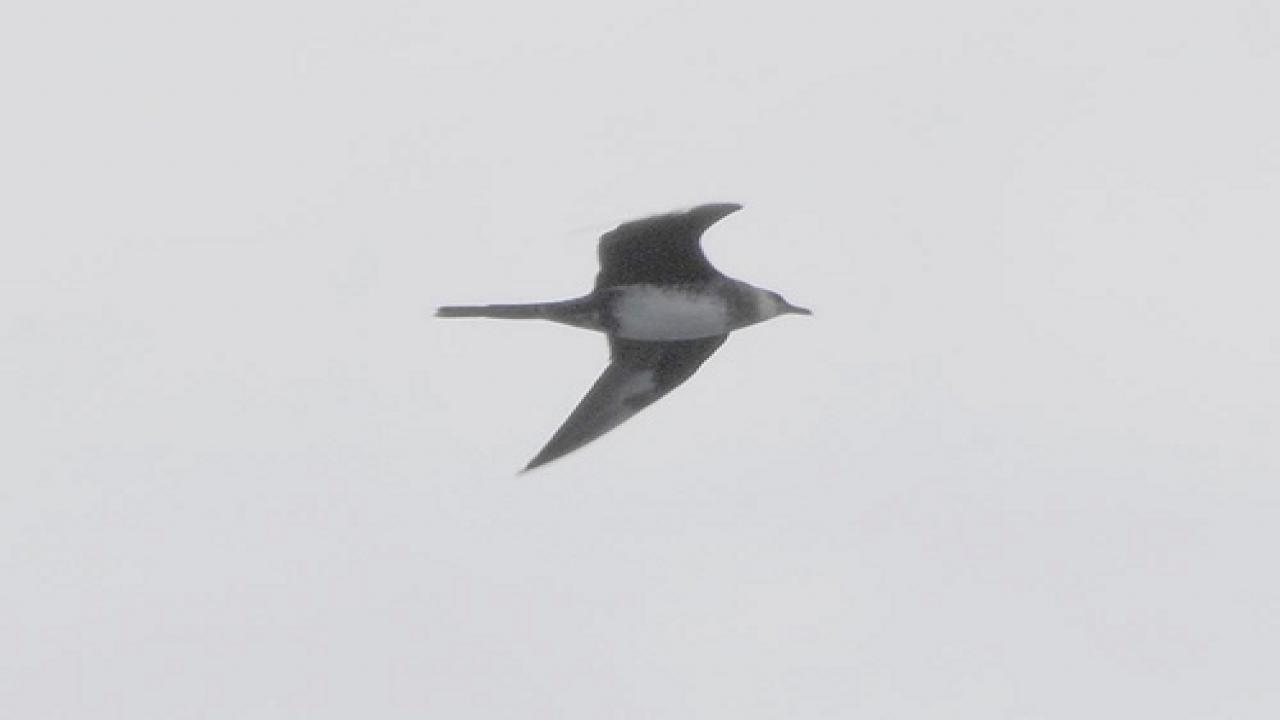Bird: (424, 191, 824, 478)
